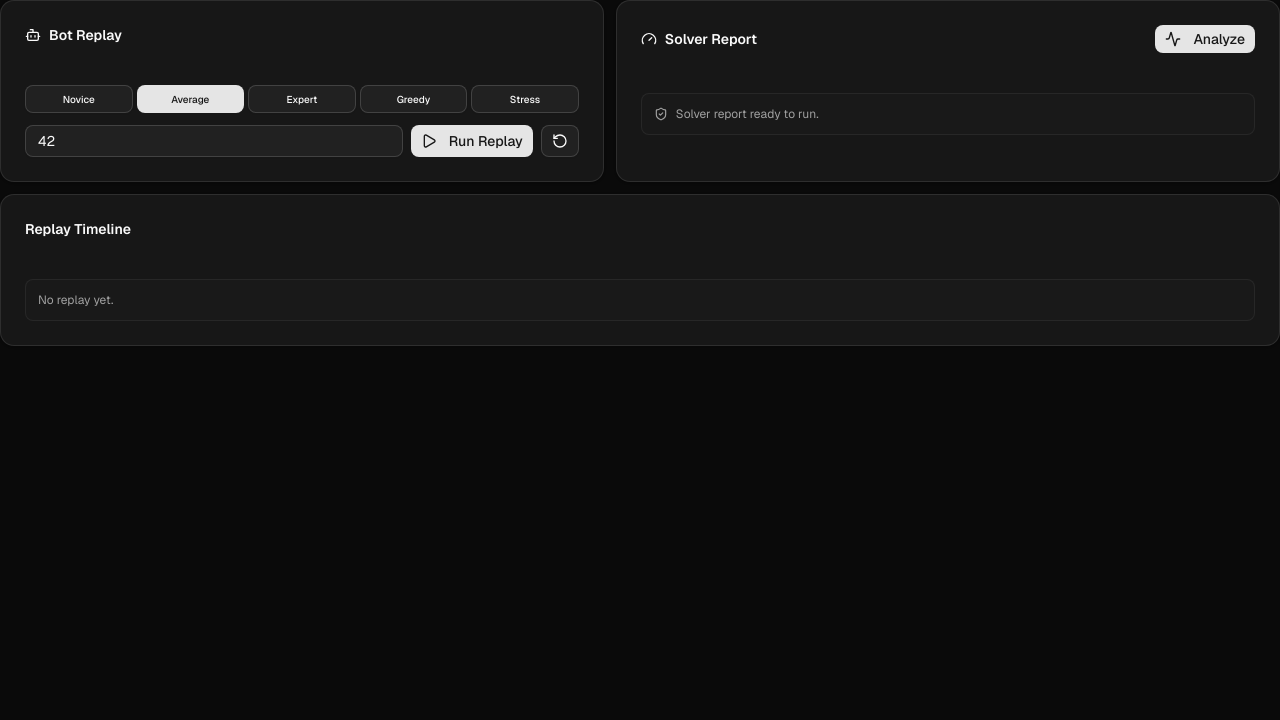
Test: SimulatorPanel › runs a deterministic replay for the current config
Click the button "Run Replay". click: (472, 141)
box: left=411, top=125, right=533, bottom=157
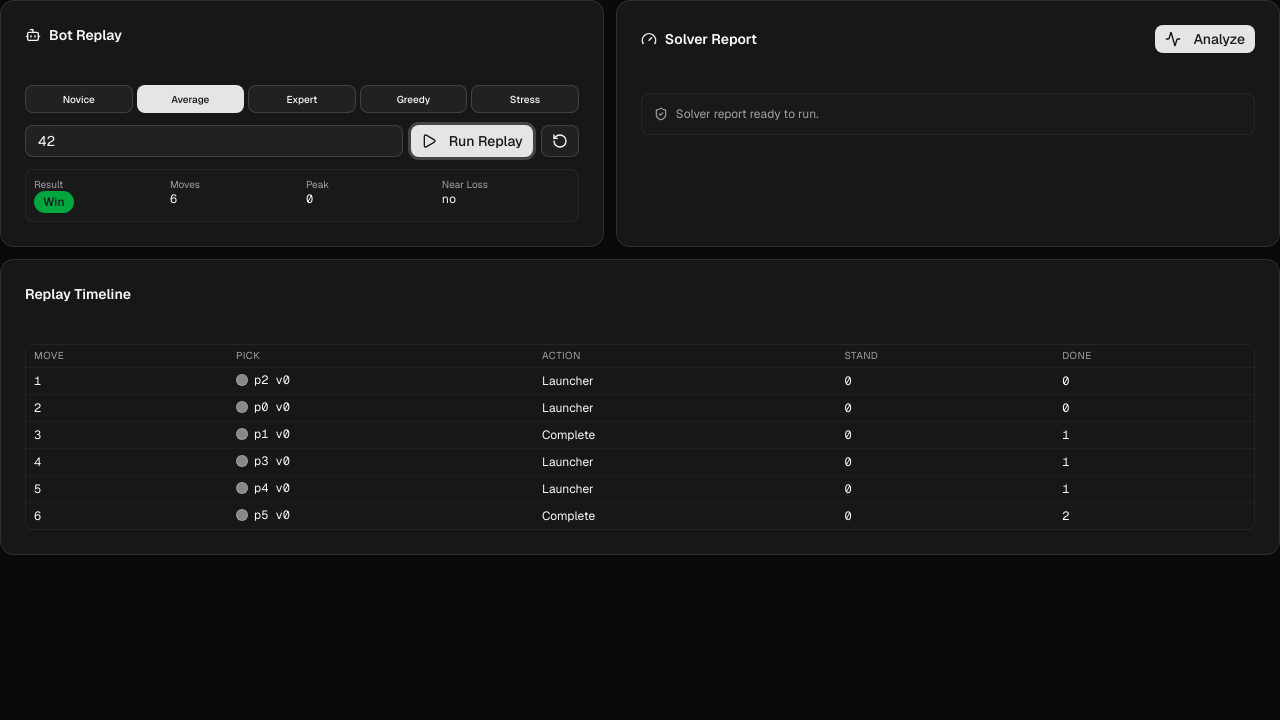
expect the text "Replay Timeline" is shown: met, box left=25, top=285, right=131, bottom=303
expect the text "Win" is shown: met, box left=34, top=191, right=74, bottom=213
expect the 1st text "Complete" is shown: met, box left=534, top=421, right=836, bottom=448
